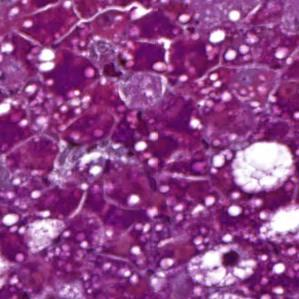ballooning: (230, 140, 296, 196), (186, 240, 258, 288)
